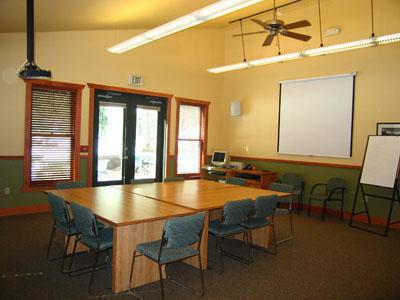Puerta: (96, 94, 161, 179)
Ventana: (29, 80, 76, 181), (177, 100, 208, 175)
